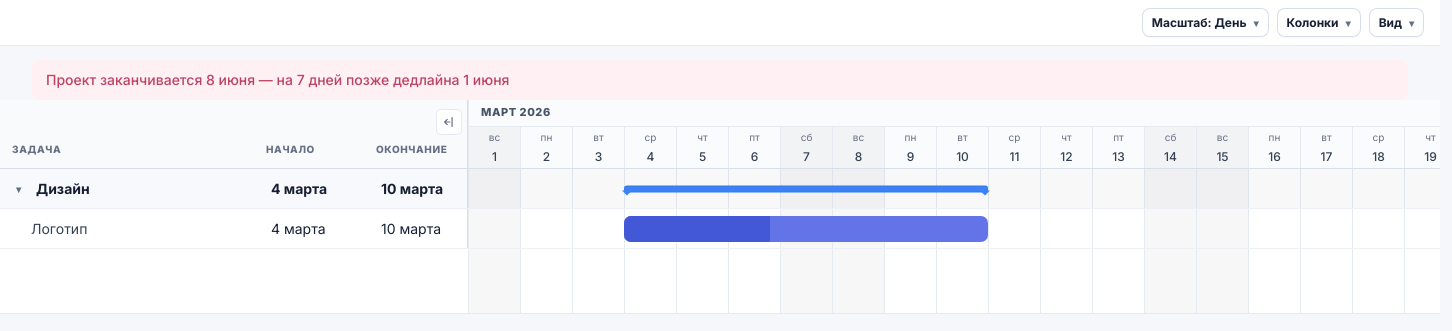
Scenario: диаграмма › свёрнутая категория прячет свои задачи, развёрнутая возвращает
Expected: the picture named "Логотип" is shown, x1=624 y1=216 x2=988 y2=242
Click the button named "Свернуть или развернуть «Дизайн»" at (18, 189), box x1=12 y1=184 x2=25 y2=194
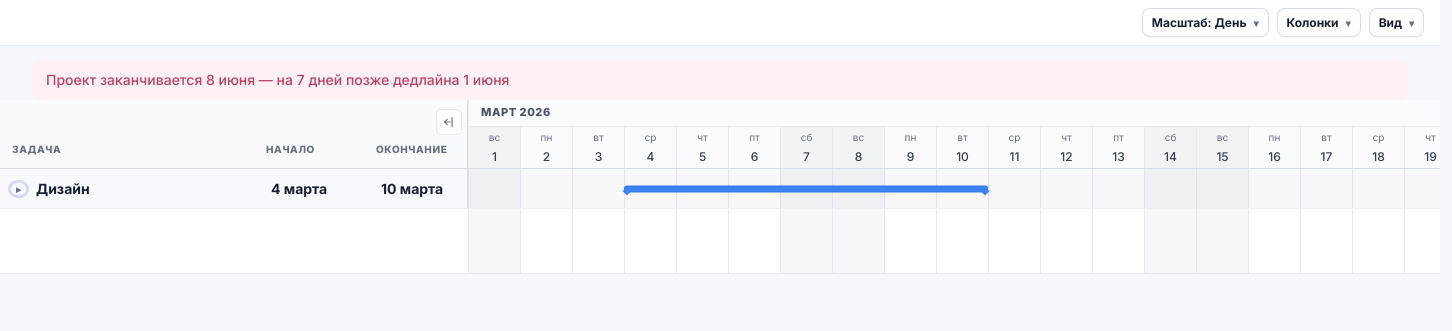
Expected: the text "Логотип" is gone
Click the button named "Свернуть или развернуть «Дизайн»" at (18, 189), box x1=12 y1=184 x2=25 y2=194
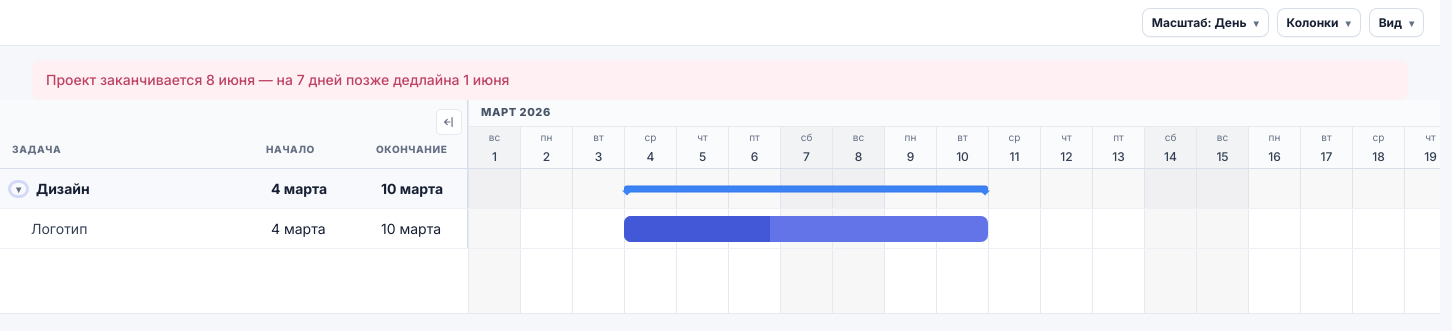
Expected: the picture named "Логотип" is shown, x1=624 y1=216 x2=988 y2=242
